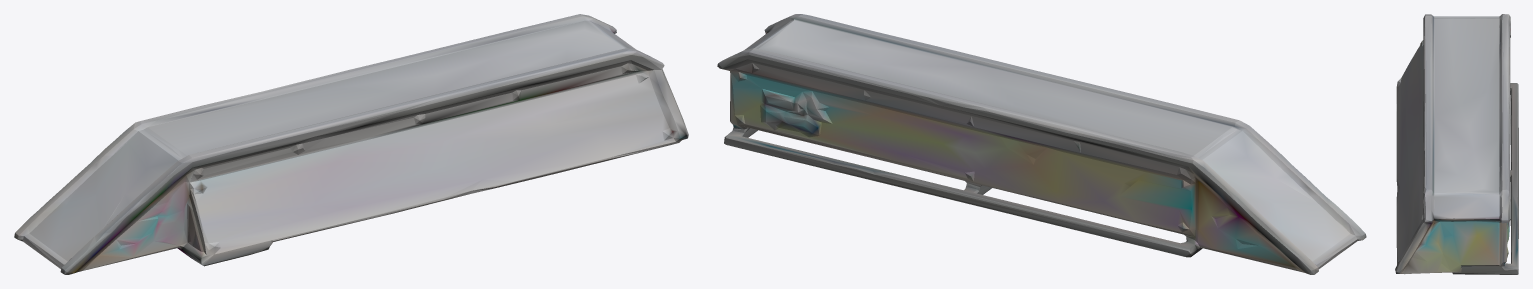
The model's file is gen-rail.glb.
The picture shows the model from 3 angles, left to right: view 1: azimuth 30°, elevation 25°; view 2: azimuth 150°, elevation 25°; view 3: azimuth 270°, elevation 25°; orthographic projection. The views are drawn at different scales.
Visible parts, largest first — view 1: model; view 2: model; view 3: model.
Part boxes in pixels (x1,y1,x2,y2): model: (14,14,688,274); model: (717,14,1366,274); model: (1395,14,1518,274).
Bounding box in the file's own units: 6 × 0.9 × 1.3.
